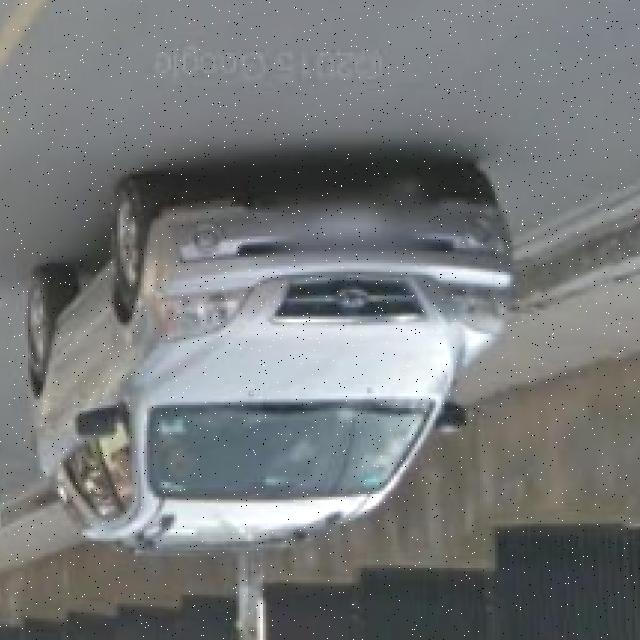car: (22, 146, 515, 556)
